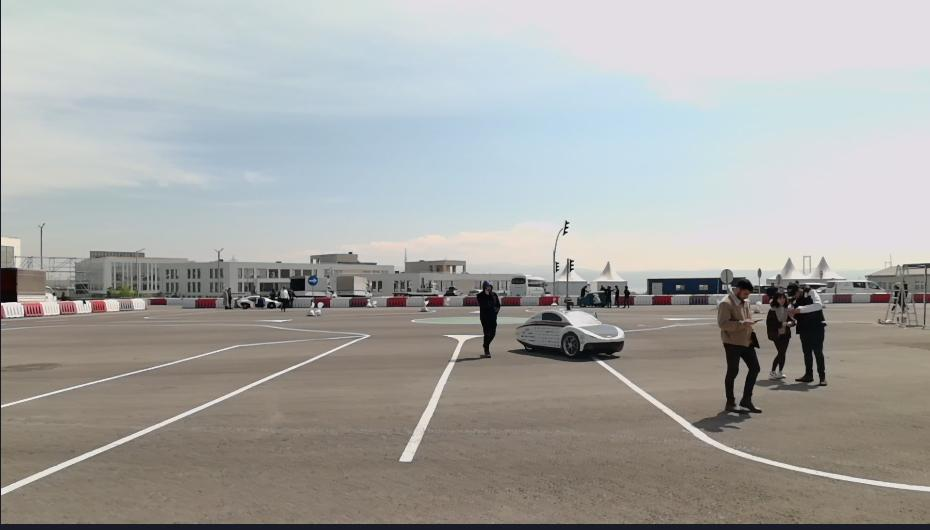nesne: (0, 319, 929, 526), (370, 325, 929, 528), (0, 321, 485, 527), (0, 330, 368, 496), (0, 333, 370, 496), (592, 355, 929, 496), (0, 333, 362, 408), (401, 333, 481, 463), (718, 277, 761, 413), (514, 305, 624, 357), (785, 274, 828, 384), (3, 297, 145, 319), (766, 288, 793, 377), (315, 295, 476, 309), (474, 280, 501, 358), (410, 315, 521, 325), (496, 295, 576, 307), (818, 291, 890, 303), (236, 294, 279, 309), (576, 289, 602, 307), (179, 298, 224, 308), (277, 285, 291, 311), (22, 300, 44, 316), (2, 303, 25, 318), (221, 284, 233, 307), (404, 296, 429, 307), (602, 282, 612, 309), (328, 296, 350, 308), (612, 282, 622, 306), (576, 283, 591, 299), (872, 291, 890, 304), (117, 297, 135, 310), (89, 300, 107, 313), (58, 301, 76, 314), (42, 302, 60, 315), (104, 298, 120, 312), (75, 300, 91, 314), (909, 292, 929, 303), (291, 297, 311, 308), (193, 298, 215, 308), (621, 284, 630, 308), (632, 295, 653, 305), (556, 295, 577, 305), (386, 296, 405, 307), (311, 296, 328, 308), (688, 293, 708, 303), (498, 295, 518, 305), (348, 298, 368, 308), (848, 293, 870, 302), (746, 293, 764, 304), (707, 293, 722, 306), (443, 297, 464, 306), (669, 295, 689, 304), (651, 295, 669, 305), (540, 295, 558, 305), (367, 297, 387, 306), (426, 296, 443, 306), (519, 296, 540, 304), (306, 302, 318, 316), (832, 292, 846, 303), (149, 298, 167, 306), (267, 285, 277, 299), (315, 301, 324, 316), (307, 275, 318, 287), (181, 298, 194, 308), (462, 297, 476, 305), (819, 292, 830, 302), (133, 299, 144, 309), (165, 299, 180, 306), (215, 298, 222, 307)
